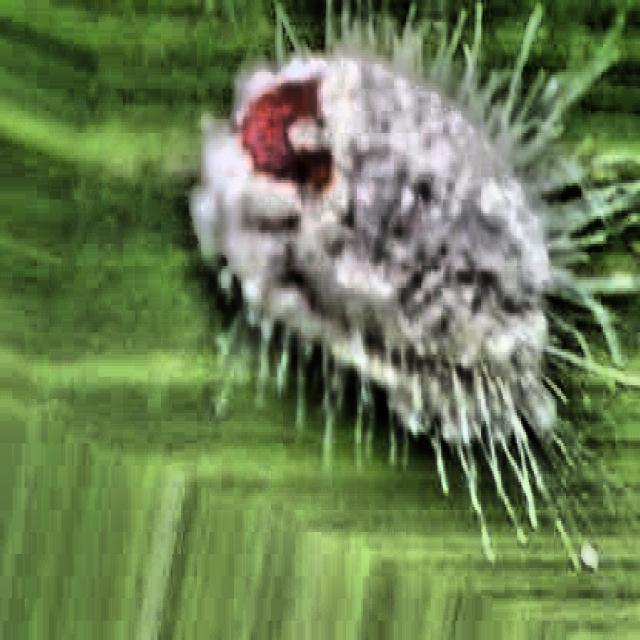Mealy-bug: (154, 3, 637, 560)
